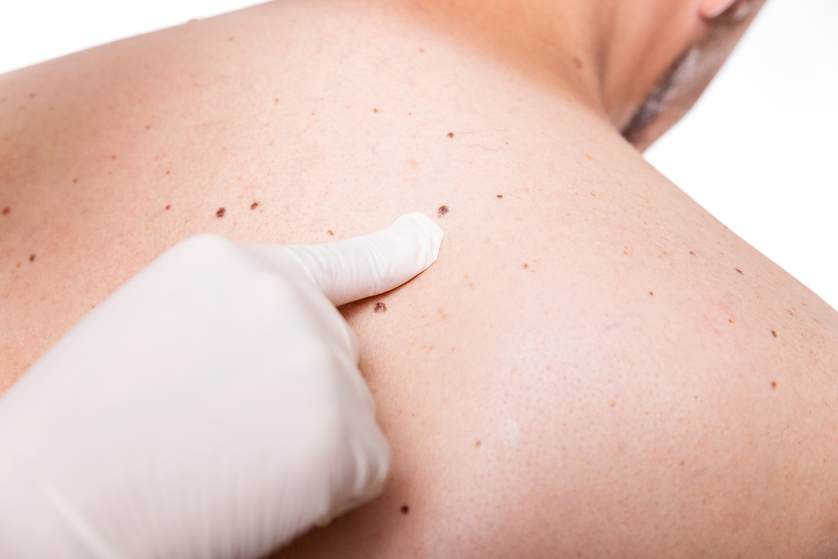mole: (394, 500, 423, 521), (433, 198, 456, 224), (371, 294, 394, 319), (246, 195, 267, 217), (492, 186, 513, 208), (211, 203, 234, 223), (765, 321, 784, 344), (443, 125, 462, 147), (23, 248, 40, 267)
